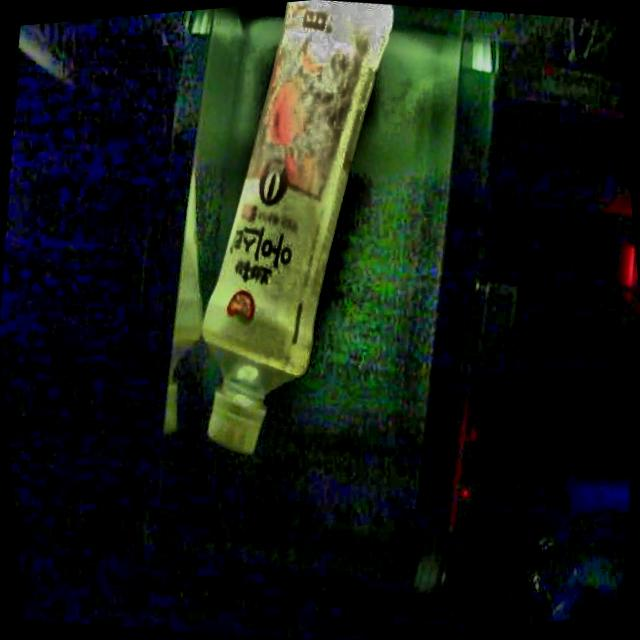plastic bottle: (203, 0, 393, 452)
